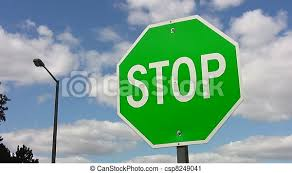SS: (120, 13, 244, 146)
